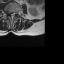CCS_normal: (11, 10, 13, 21)
LFS_stenosis: (15, 9, 17, 16)
LLS_normal: (13, 10, 15, 18)
RFS_severe_stenosis: (7, 10, 9, 15)
RLS_severe_stenosis: (9, 10, 11, 17)
